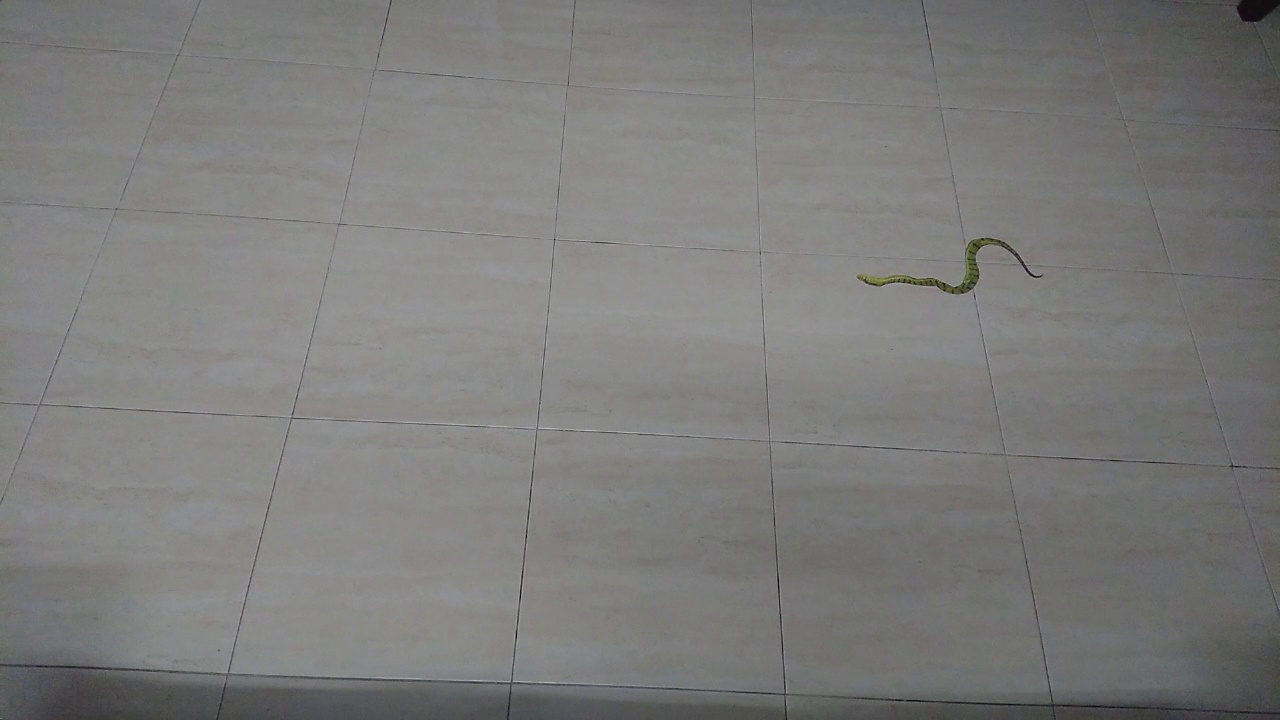snake: (837, 223, 1064, 314)
